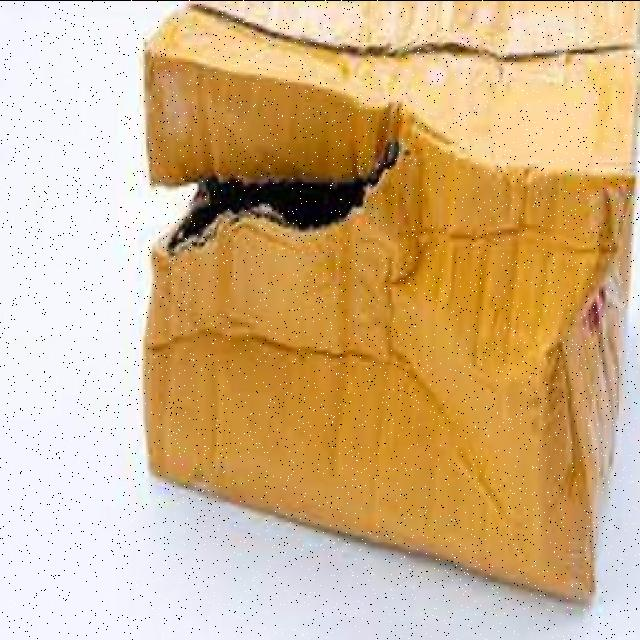defect: (134, 1, 637, 612)
